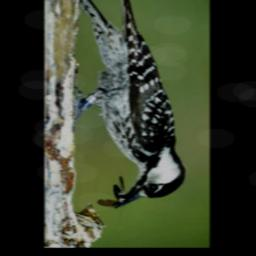Woodpecker: (79, 0, 186, 209)
